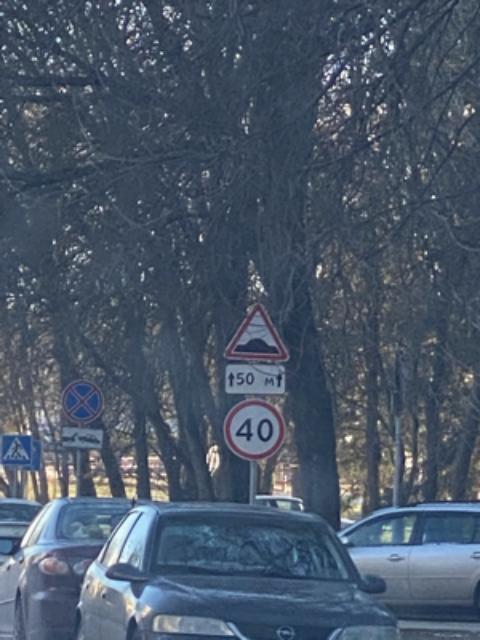crosswalk-sign: (1, 429, 37, 473)
